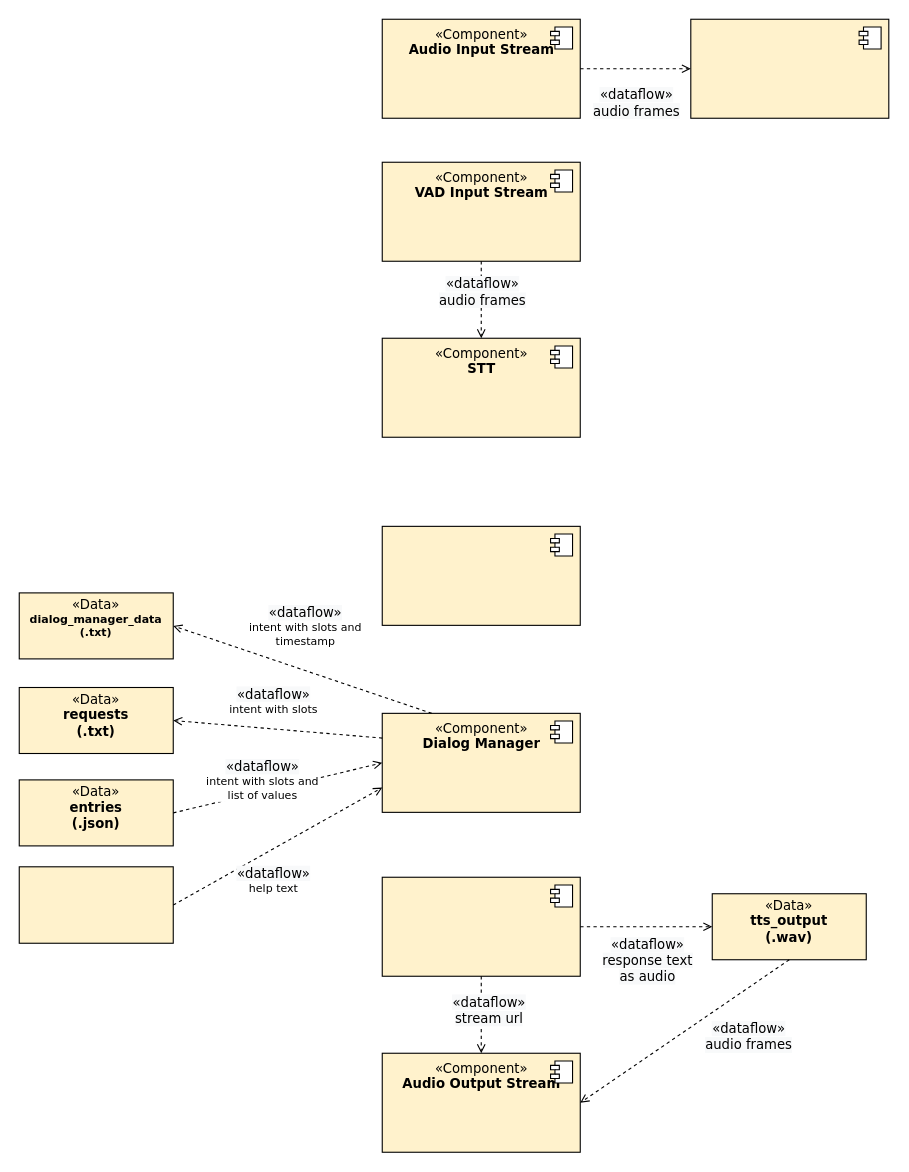
The diagram is 909 pixels wide and 1172 high, and some of its shapes have lost their labels. The shapes that lost their labels are listed below. From the top down, each one's box as (x1, y1, x2, y2) in pixels, then its label:
(690, 18, 889, 118): «Component» WWD
(381, 525, 580, 625): «Component» NLU
(18, 866, 173, 943): «Data » voice_assistant_ bot_help (.txt)
(381, 876, 580, 976): «Component» TTS
